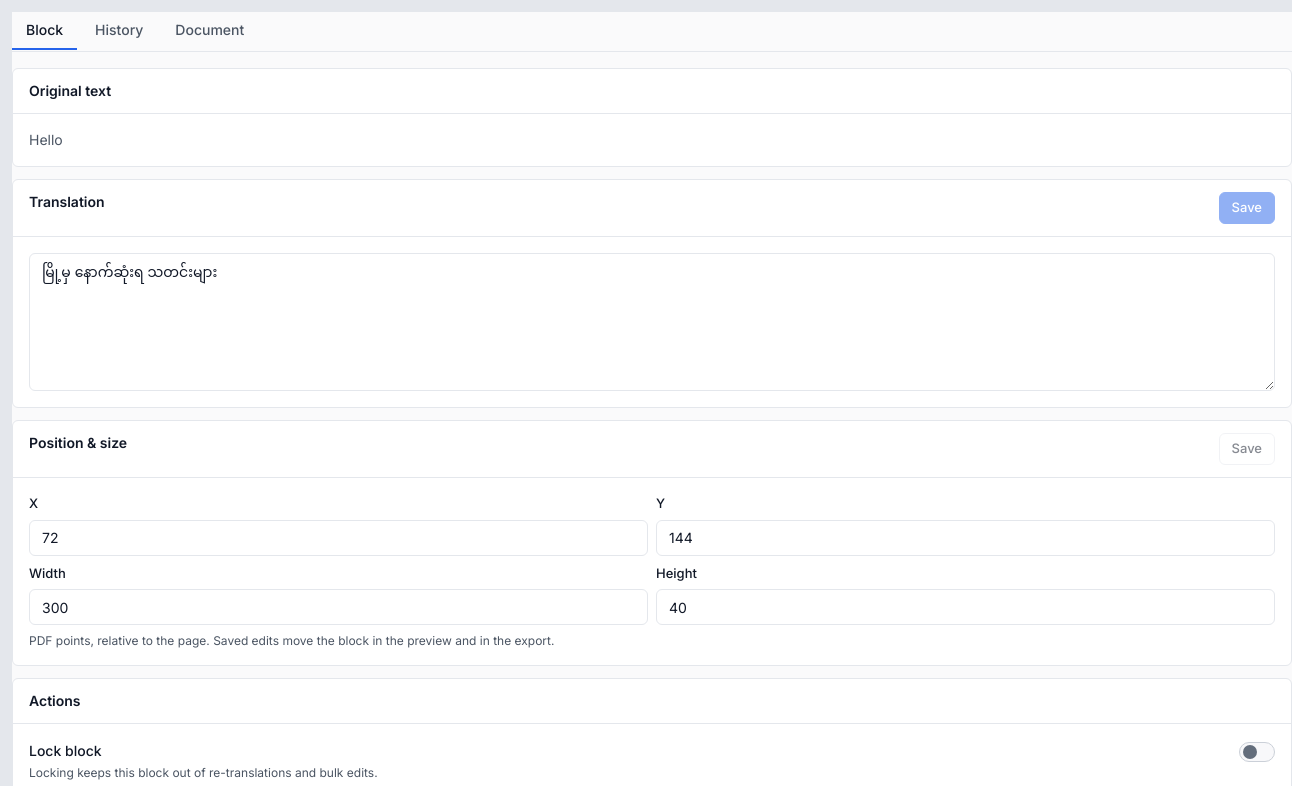
Test case: BlockInspector › refuses invalid geometry instead of persisting it
// A box narrower than 1pt is rejected…
Replace the text in the number field with test id "geom-width" with "0". click: (338,607)
box: 29,589 -> 648,625
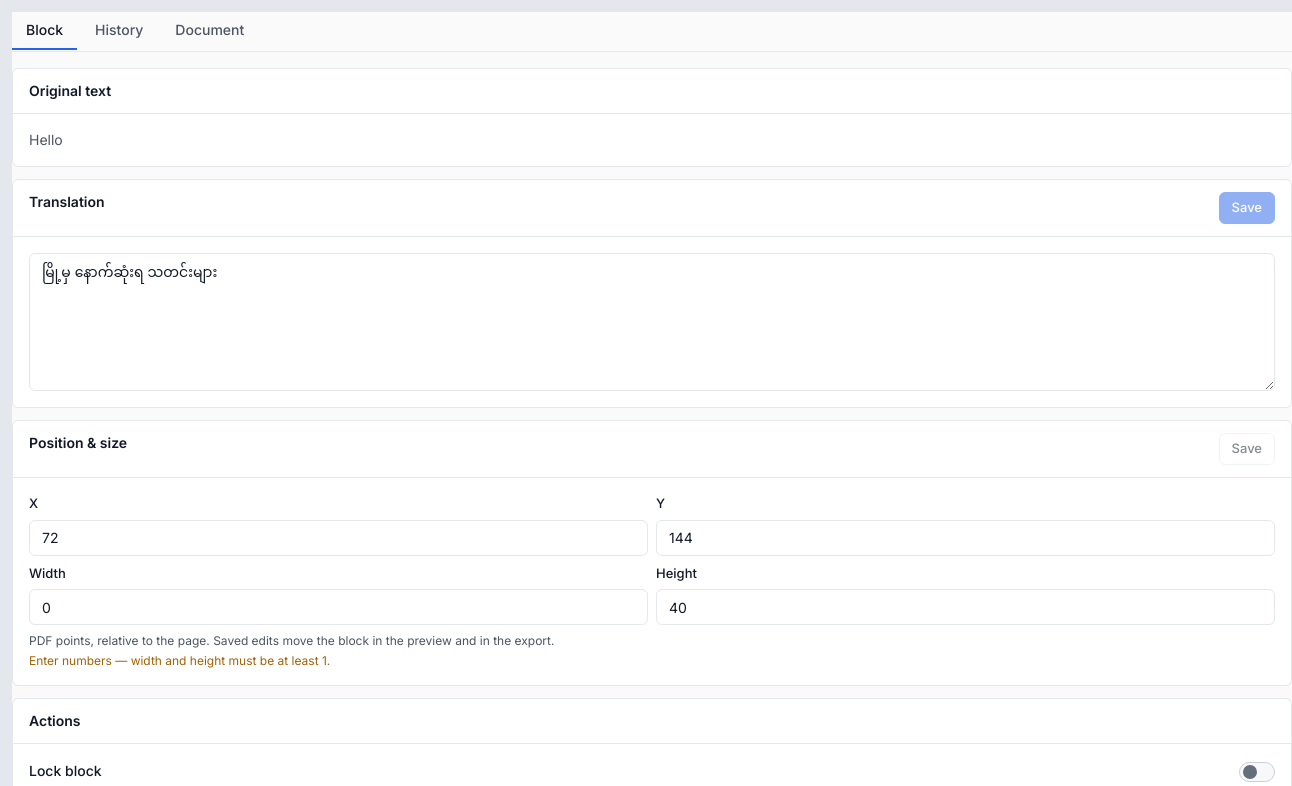
Check: the button with test id "geom-save" is disabled, box 1219,433 -> 1275,465
Check: the text "Enter numbers — width and height must be at least 1." is shown, box 29,653 -> 330,668
// …and so is a negative page offset.
Replace the text in the number field with test id "geom-width" with "300". click: (338,607)
box: 29,589 -> 648,625
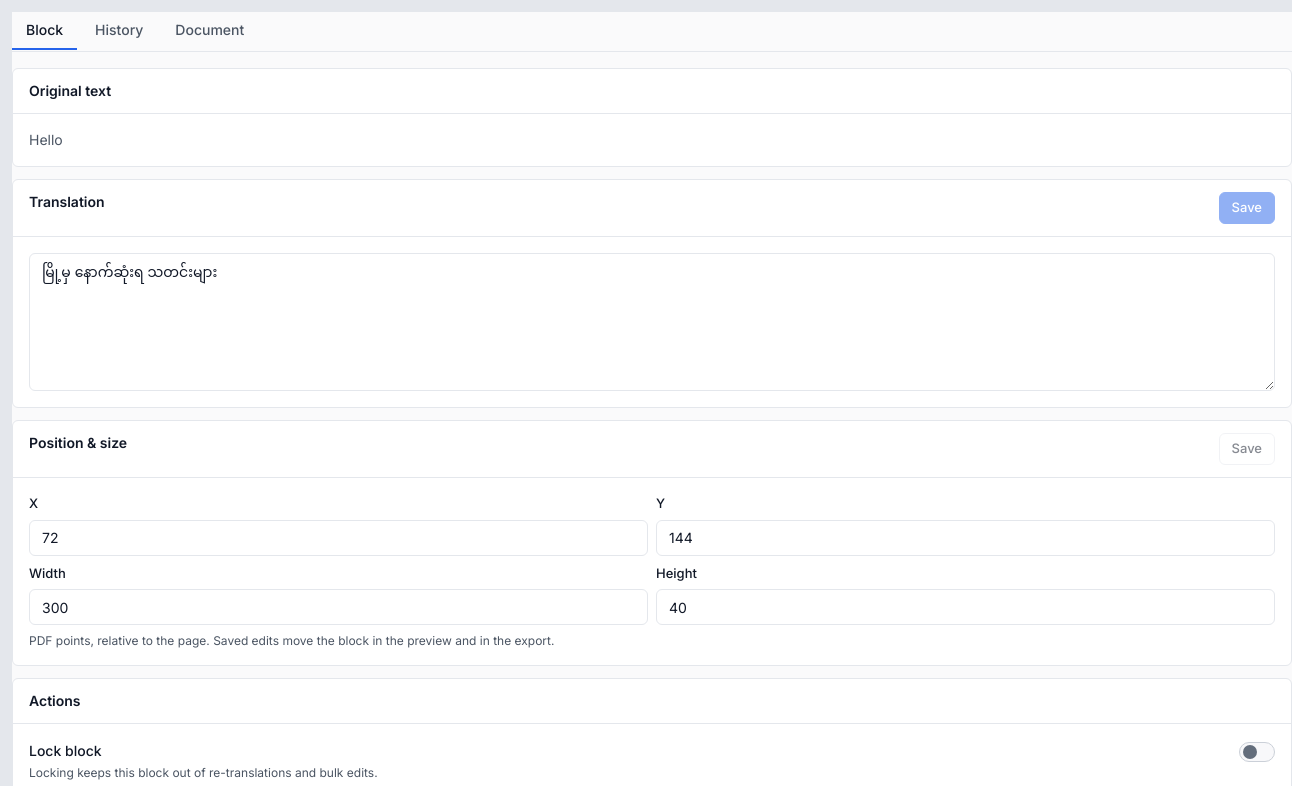
Replace the text in the number field with test id "geom-x" with "-5". click: (338,538)
box: 29,520 -> 648,556
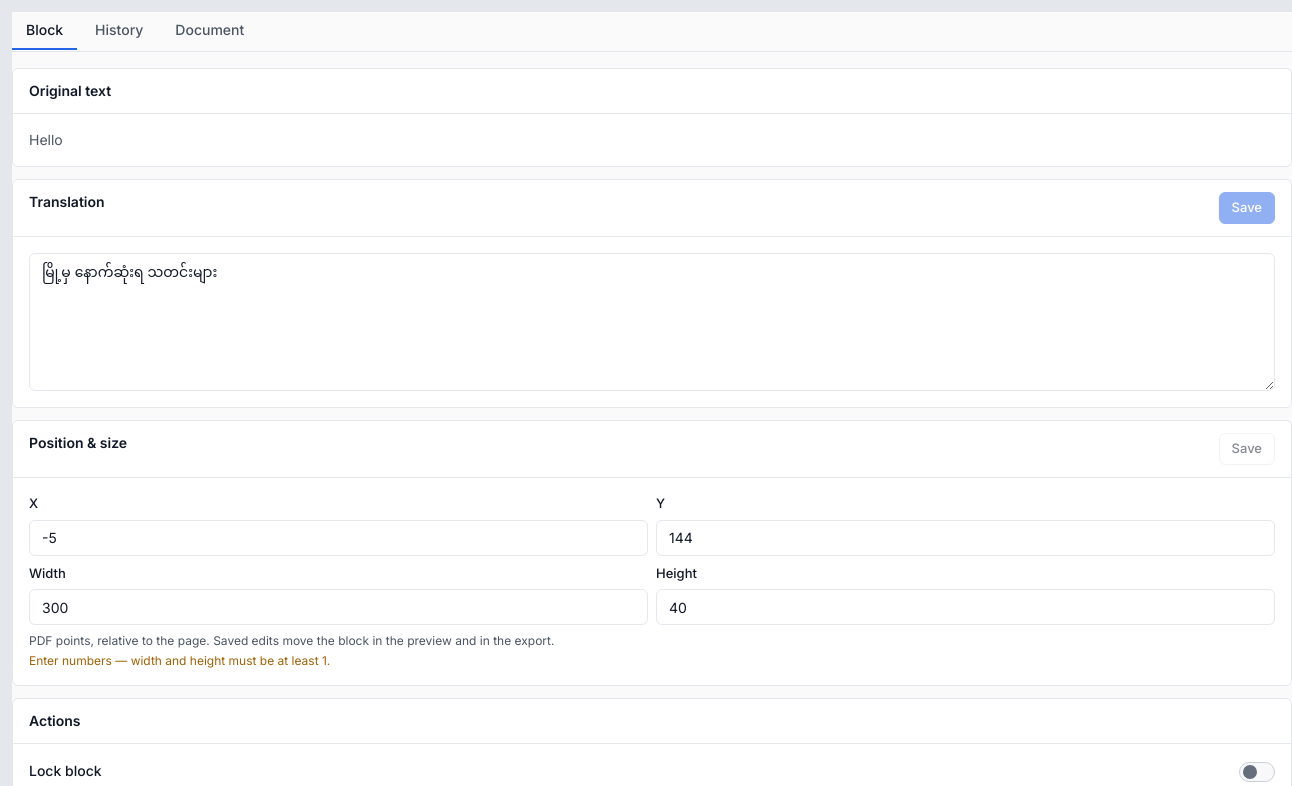
Check: the button with test id "geom-save" is disabled, box 1219,433 -> 1275,465
Check: the text "Enter numbers — width and height must be at least 1." is shown, box 29,653 -> 330,668
